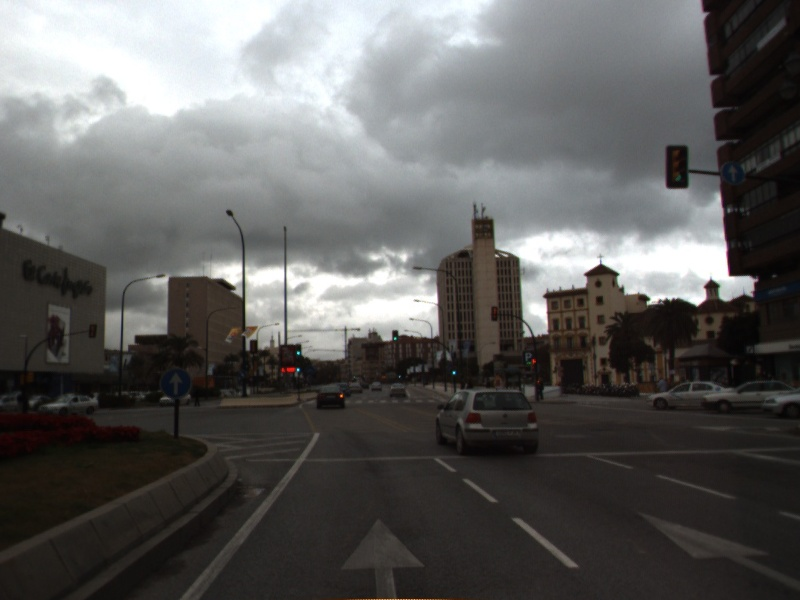STRAIGHT: (630, 506, 800, 592), (336, 512, 428, 600)
